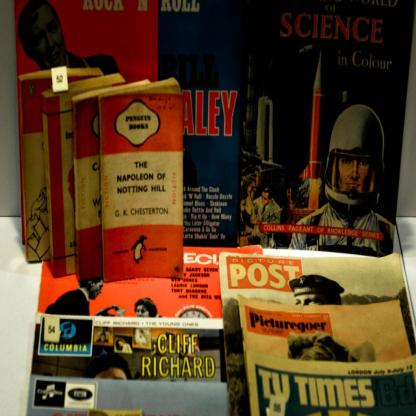Helmet: (324, 111, 384, 212)
